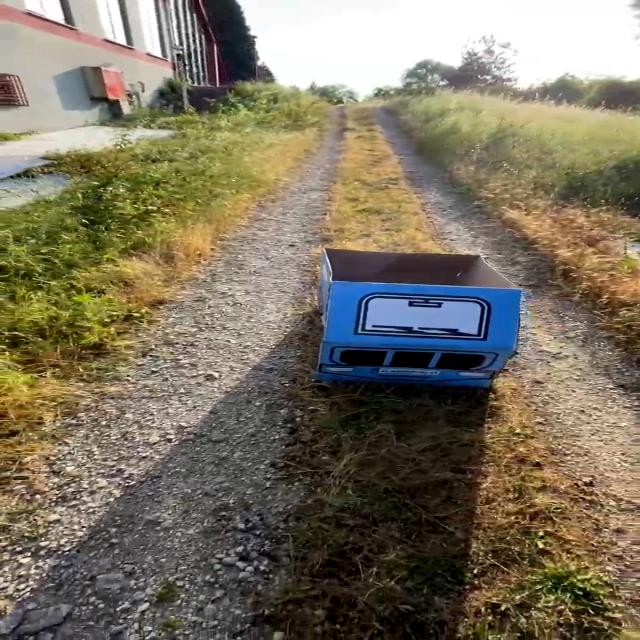blue_car: (210, 222, 562, 406)
